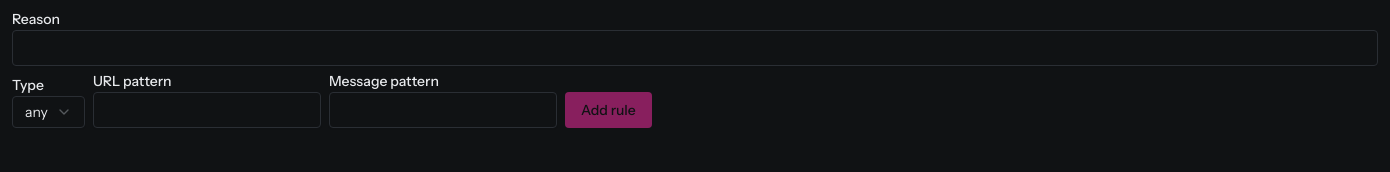
Test case: IgnoreRulesTable › disables add until reason and one criterion are set
The image size is (1390, 172).
Check: the button "Add rule" is disabled, box [565,92,652,128]
Type "third-party noise" into the field labelled "Reason" at (695, 48), box [12,30,1378,66]
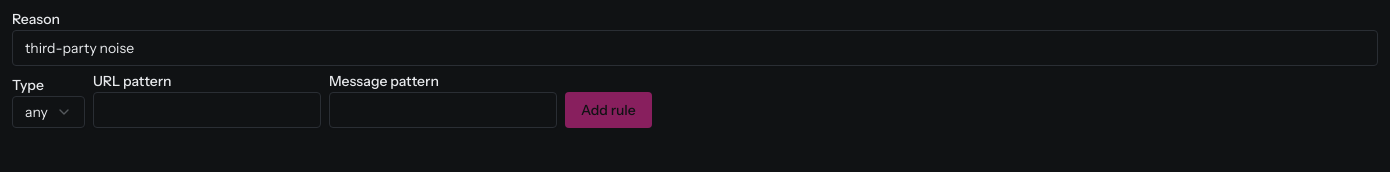
Check: the button "Add rule" is disabled, box [565,92,652,128]
Type "analytics" into the field labelled "Message pattern" at (443, 110), box [329,92,557,128]
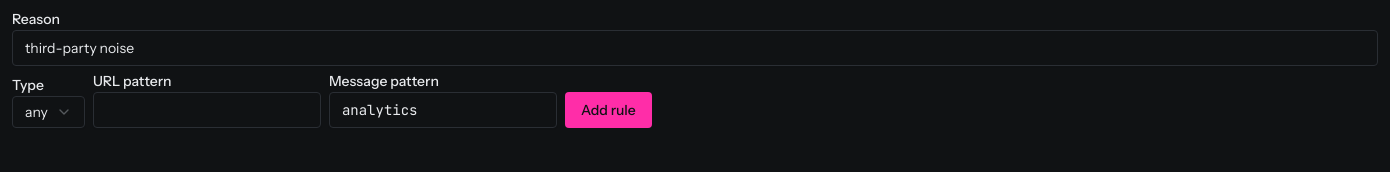
Check: the button "Add rule" is enabled, box [565,92,652,128]
